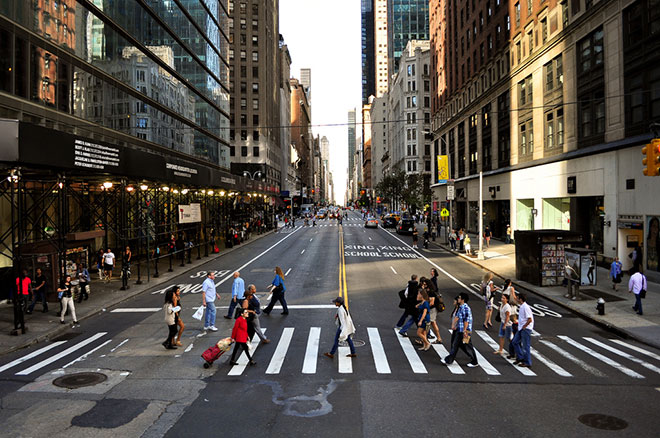pedestrian: (445, 292, 478, 365), (324, 296, 358, 361), (512, 294, 537, 370), (230, 307, 256, 366), (262, 265, 291, 316), (55, 272, 80, 326), (157, 290, 179, 350), (198, 271, 220, 328), (494, 293, 513, 352), (224, 270, 246, 317), (630, 266, 650, 315)
